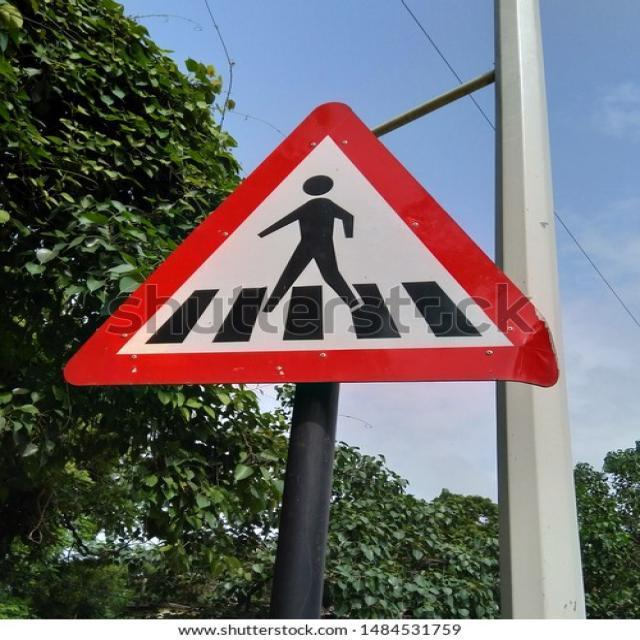pedestrian crossing: (59, 96, 586, 388)
